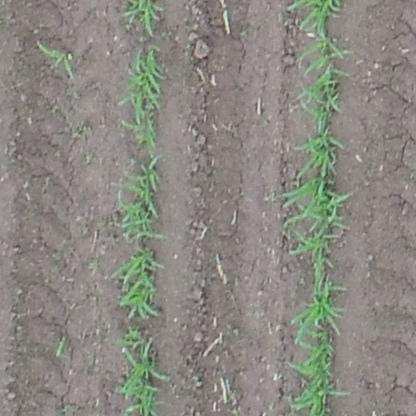corn: (278, 182, 369, 415), (294, 38, 348, 129), (114, 156, 166, 241), (120, 327, 169, 414), (127, 45, 164, 145), (116, 247, 167, 313), (292, 135, 350, 178), (291, 2, 349, 35), (121, 1, 171, 37), (34, 37, 66, 79)
